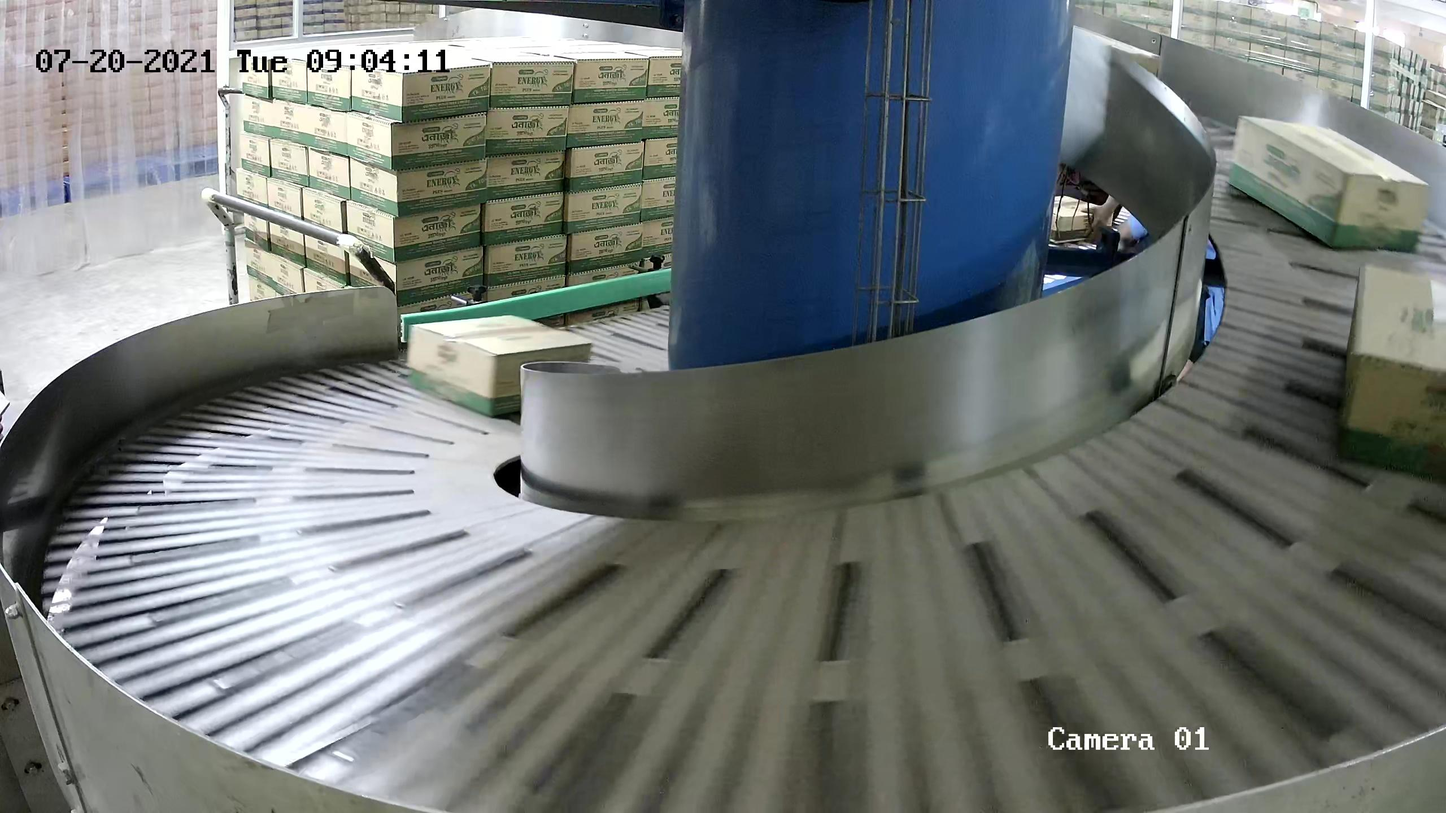Box: (1226, 115, 1430, 253), (1338, 264, 1446, 490), (408, 313, 592, 418)
